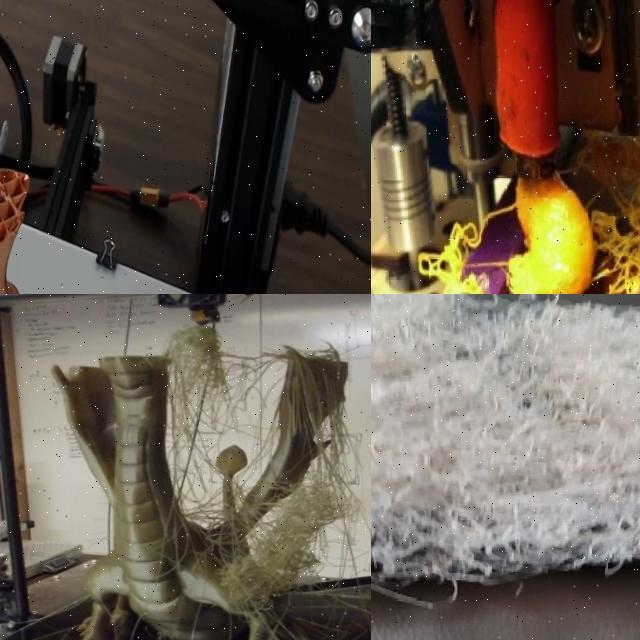spaghetti: (53, 325, 371, 640), (371, 294, 640, 605), (416, 206, 572, 294), (560, 129, 640, 294)
